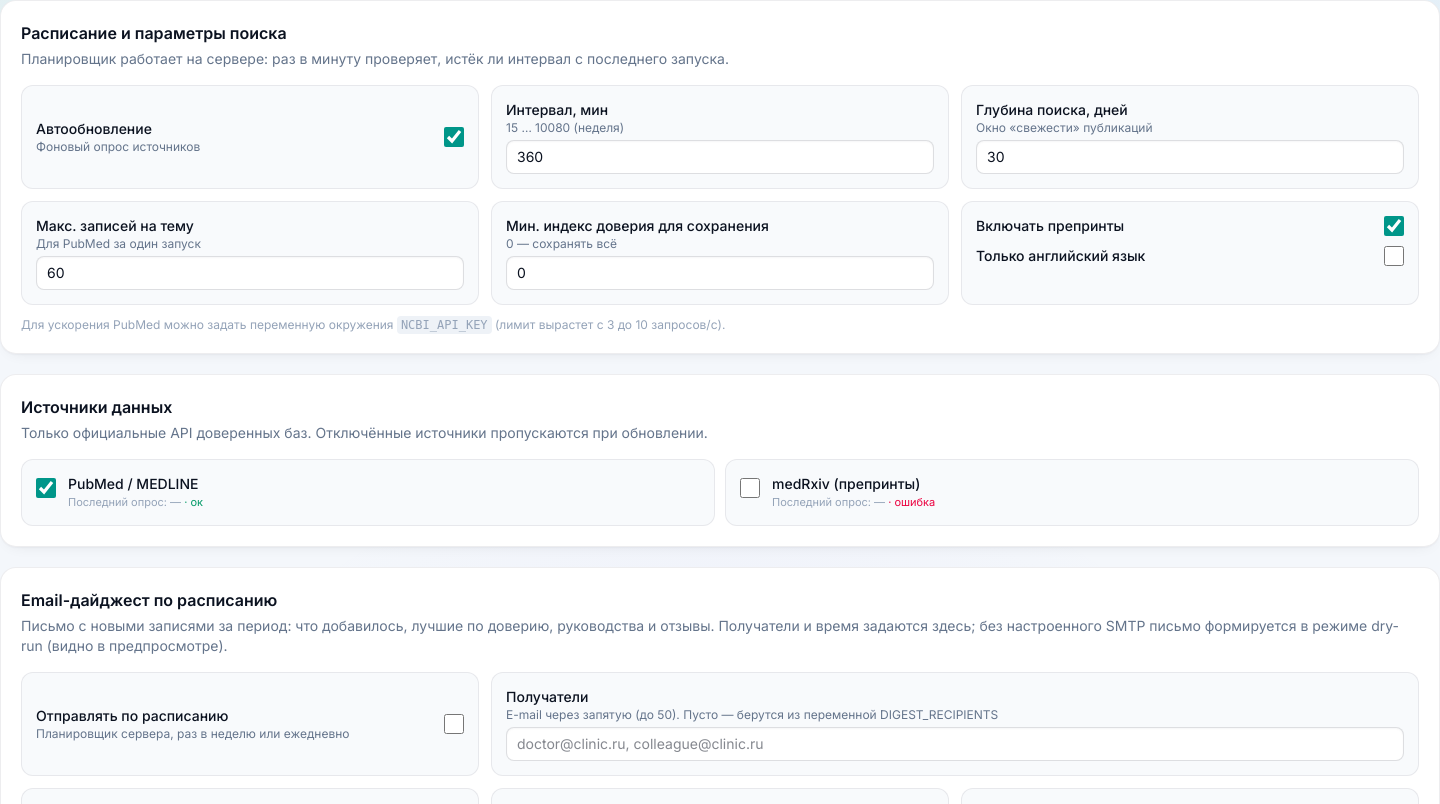
Test: <SettingsPanel /> › ошибка сохранения (401) не ломает форму и показывает сообщение (F-30)
Click the checkbox labelled "Автообновление Фоновый опрос источников" at (454, 137), box [444,127,464,147]
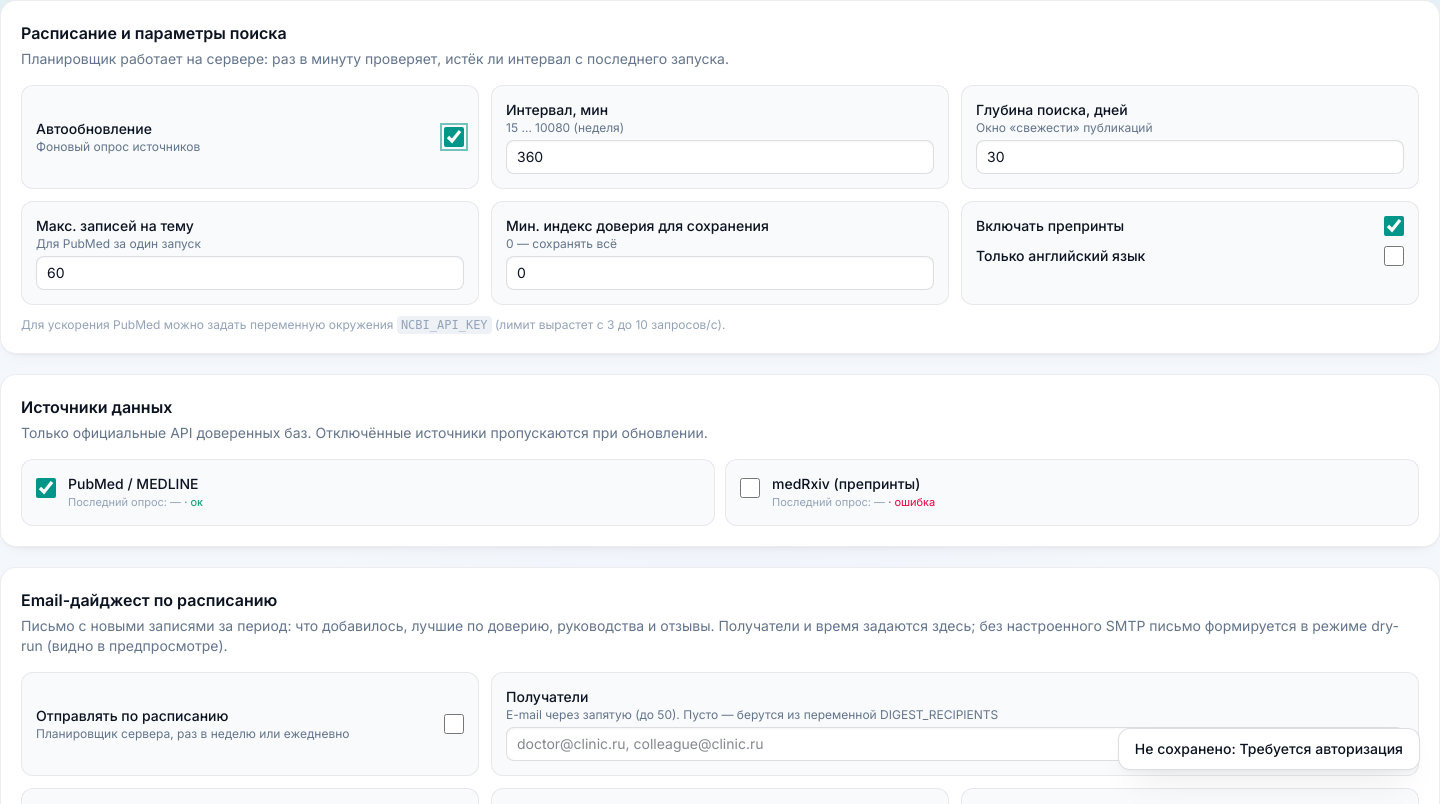
Expected: the text "Не сохранено: Требуется авторизация" is shown, [1118,728,1420,770]
